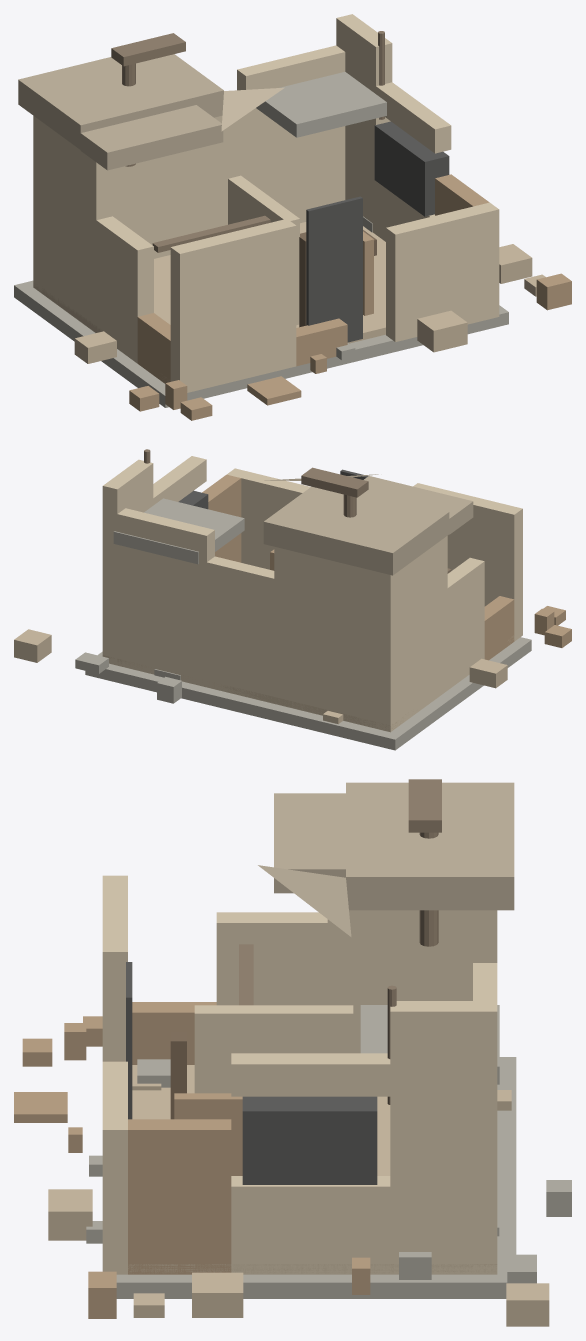
File: ruin-house.gltf
3 views of the same model, one above another, from view 1: azimuth 30°, elevation 25°; view 2: azimuth 150°, elevation 25°; view 3: azimuth 270°, elevation 25° (orthographic). The views are drawn at different scales.
Parts seen in each view (by area): view 1: ruin-house; view 2: ruin-house; view 3: ruin-house.
Part boxes in pixels (x1,y1,x2,y2): ruin-house: [14, 14, 571, 420]; ruin-house: [14, 449, 571, 750]; ruin-house: [14, 779, 571, 1326].
Size of the model in its own units: 6.56 by 3.55 by 5.29.
